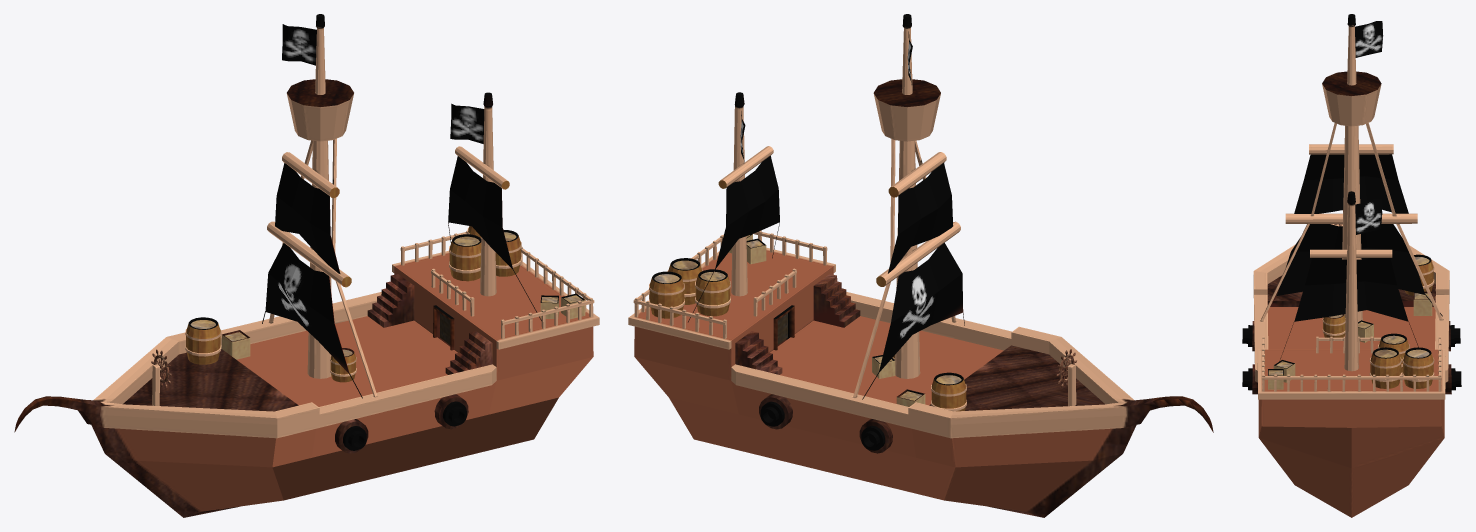
Rendered from pirate_ship_lowpoly.glb.
The picture shows the model from 3 angles, left to right: view 1: azimuth 30°, elevation 25°; view 2: azimuth 150°, elevation 25°; view 3: azimuth 270°, elevation 25°; orthographic projection. The views are drawn at different scales.
Parts seen in each view (by area): view 1: Cube; view 2: Cube; view 3: Cube.
Boxes of the visible parts, x1,y1,x2,y2 form: Cube: (14,14,599,517); Cube: (628,14,1213,517); Cube: (1242,14,1461,517).
Bounding box in the file's own units: 9.69 × 8.05 × 3.84.
1 material, 1 textured.
